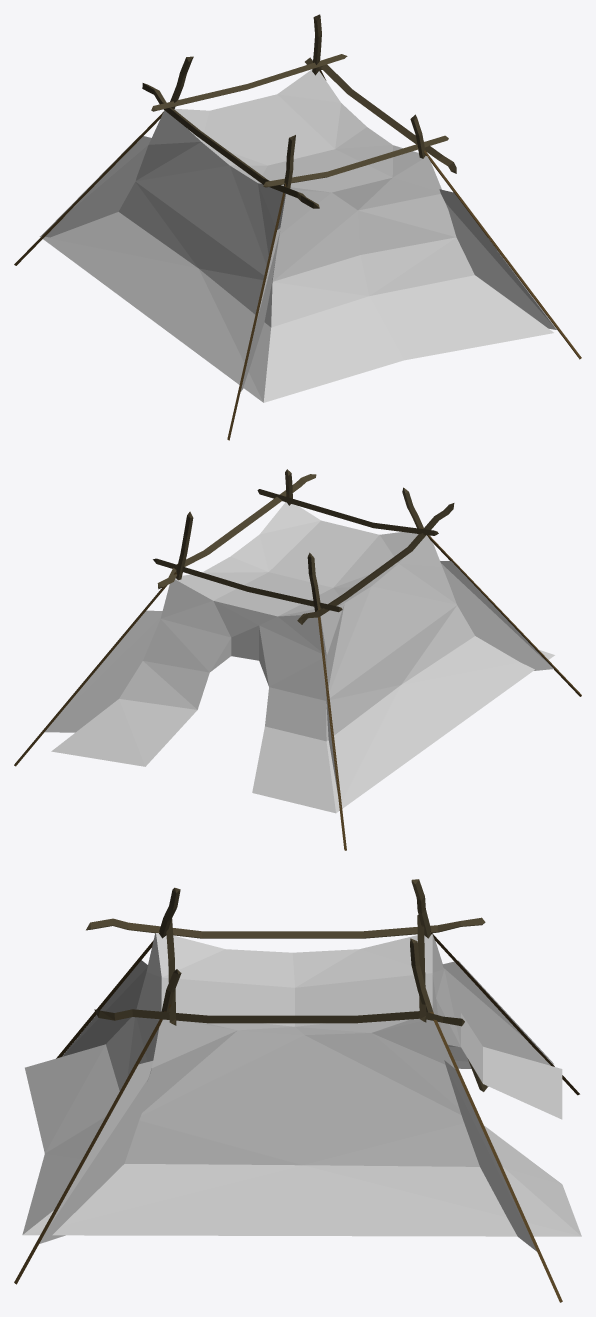
Rendered from NW_MISC_BIG_TENT_430P.OBJ.
The picture shows the model from 3 angles, top to bottom: view 1: azimuth 30°, elevation 25°; view 2: azimuth 150°, elevation 25°; view 3: azimuth 270°, elevation 25°; orthographic projection. The views are drawn at different scales.
Visible parts, largest first — view 1: NW_MISC_BIG_TENT_430P; view 2: NW_MISC_BIG_TENT_430P; view 3: NW_MISC_BIG_TENT_430P.
Boxes of the visible parts, x1,y1,x2,y2 form: NW_MISC_BIG_TENT_430P: (14,14,581,440); NW_MISC_BIG_TENT_430P: (14,469,581,850); NW_MISC_BIG_TENT_430P: (14,879,581,1302).
Size of the model in its own units: 9.28 by 5.95 by 10.36.
